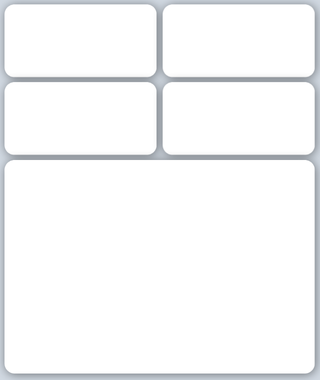

This screenshot's page, from the dashboard's own definition file:
{"tool":"powerbi","page":{"name":"Tooltip_Entity","canvas":[320,240],"ordinal":5},"visuals":[{"type":"treemap","fields":{"Group":["robotaxi_cleaned.Severity Group"],"Values":["_measures table.Total Incidents"]},"box":[113,2,204,114],"z":0},{"type":"lineChart","title":"Monthly incident Trend","fields":{"Category":["DateTable.YearMonth"],"Y":["_measures table.Total Incidents"]},"box":[2,120,314,117],"z":1000},{"type":"cardVisual","title":"Total Incidents","fields":{"Data":["_measures table.Total Incidents"]},"box":[2,2,108,53],"z":2000},{"type":"cardVisual","title":"Avg Delay","fields":{"Data":["_measures table.Avg Reporting Delay"]},"box":[2,56.8,108,60],"z":3000}]}

Visuals, with their boxes on the page's 320x240 design canvas (x1, y1, x2, y2). These are canvas units, not pixel positions in the 320x380 screenshot, which may show the page scaled, cropped or inside an application window:
treemap - robotaxi_cleaned.Severity Group x _measures table.Total Incidents: 113, 2, 317, 116
"Monthly incident Trend" lineChart: 2, 120, 316, 237
"Total Incidents" cardVisual: 2, 2, 110, 55
"Avg Delay" cardVisual: 2, 57, 110, 117
